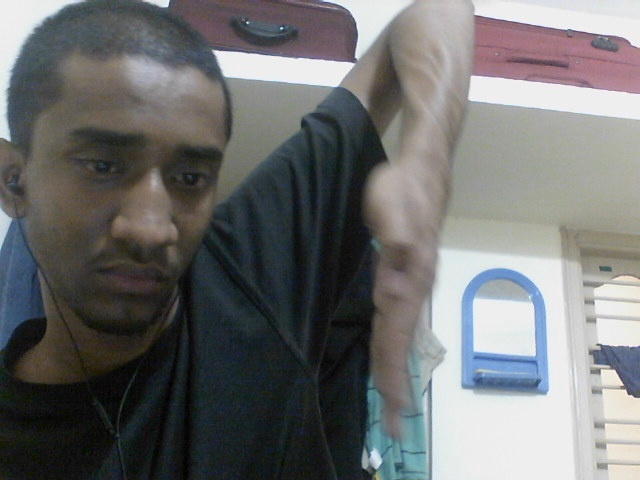hand: (355, 150, 454, 444)
